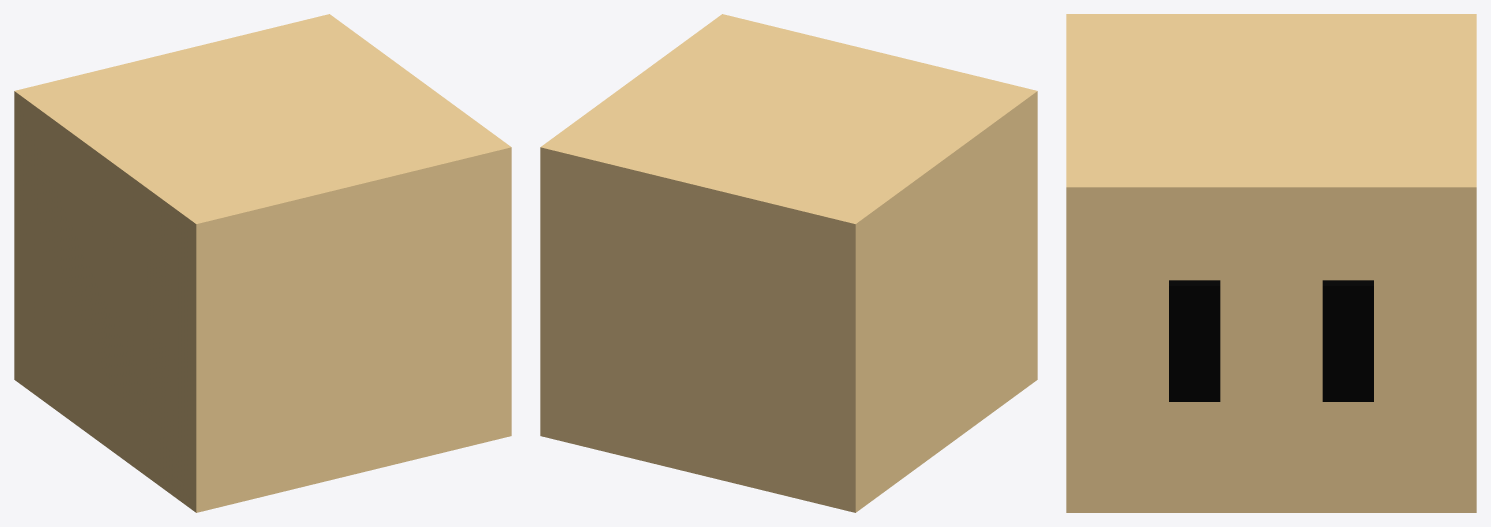
3 renders of one model, left to right at view 1: azimuth 30°, elevation 25°; view 2: azimuth 150°, elevation 25°; view 3: azimuth 270°, elevation 25°, orthographic. The views are drawn at different scales.
Parts seen in each view (by area): view 1: Boody; view 2: Boody; view 3: Boody, Right eyes, Left eyes.
Boxes of the visible parts, bbox=[...] form: Boody: bbox=[14, 14, 511, 512]; Boody: bbox=[540, 14, 1037, 512]; Boody: bbox=[1066, 14, 1476, 512]; Right eyes: bbox=[1169, 280, 1220, 401]; Left eyes: bbox=[1322, 280, 1373, 401].
Bounding box in the file's own units: 103 × 87.5 × 100.
Materials: 2 (2 with a texture image).
